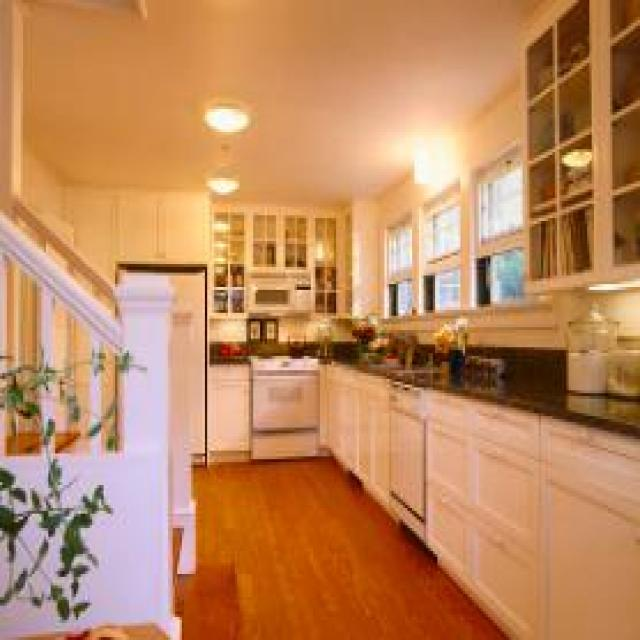dishwasher: (389, 376, 424, 545)
